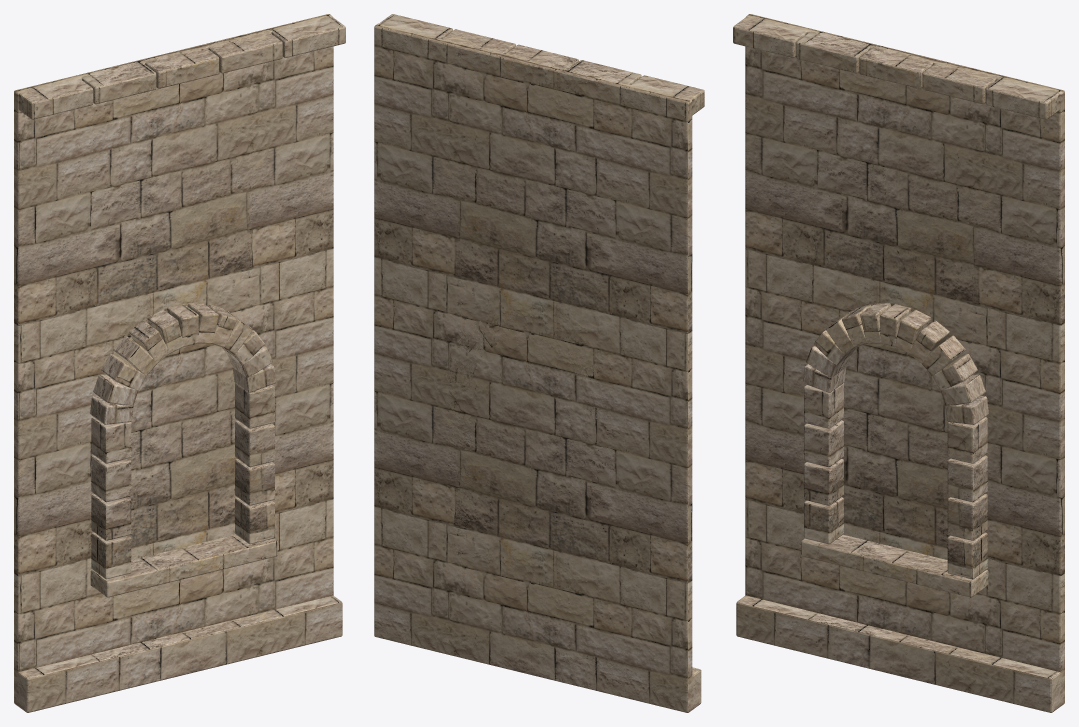
Rendered from spawn-a-west.glb.
The picture shows the model from 3 angles, left to right: view 1: azimuth 30°, elevation 25°; view 2: azimuth 150°, elevation 25°; view 3: azimuth 330°, elevation 25°; orthographic projection.
Visible parts, largest first — view 1: Continuous stone face; view 2: Continuous stone face; view 3: Continuous stone face.
Part boxes in pixels (left/top/right/bottom): Continuous stone face: left=14, top=14, right=345, bottom=712; Continuous stone face: left=374, top=14, right=704, bottom=712; Continuous stone face: left=733, top=14, right=1064, bottom=712.
Size of the model in its own units: 2.64 by 4.9 by 0.31.
Materials: 1 (1 with a texture image).
